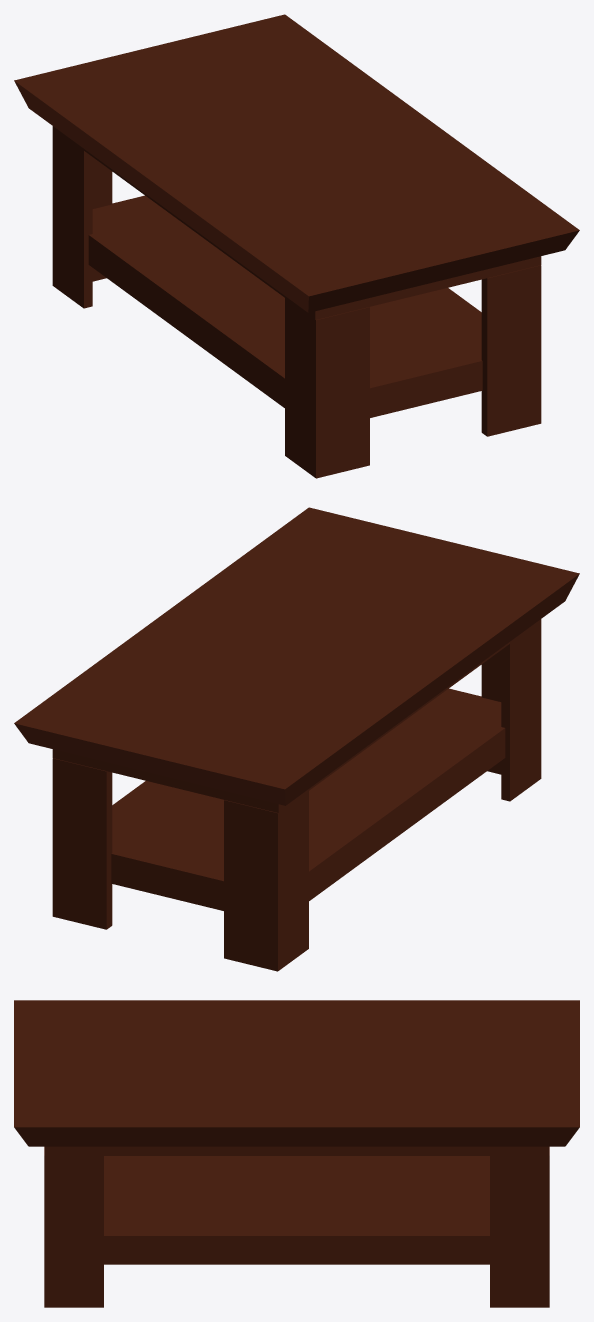
Rendered from CoffeeTable.obj.
The picture shows the model from 3 angles, top to bottom: view 1: azimuth 30°, elevation 25°; view 2: azimuth 150°, elevation 25°; view 3: azimuth 270°, elevation 25°; orthographic projection. The views are drawn at different scales.
Visible parts, largest first — view 1: Mesa; view 2: Mesa; view 3: Mesa.
Boxes of the visible parts, x1,y1,x2,y2 form: Mesa: [14, 14, 579, 478]; Mesa: [14, 507, 579, 971]; Mesa: [14, 1000, 579, 1307].
Size of the model in its own units: 2.65 by 1.86 by 5.
